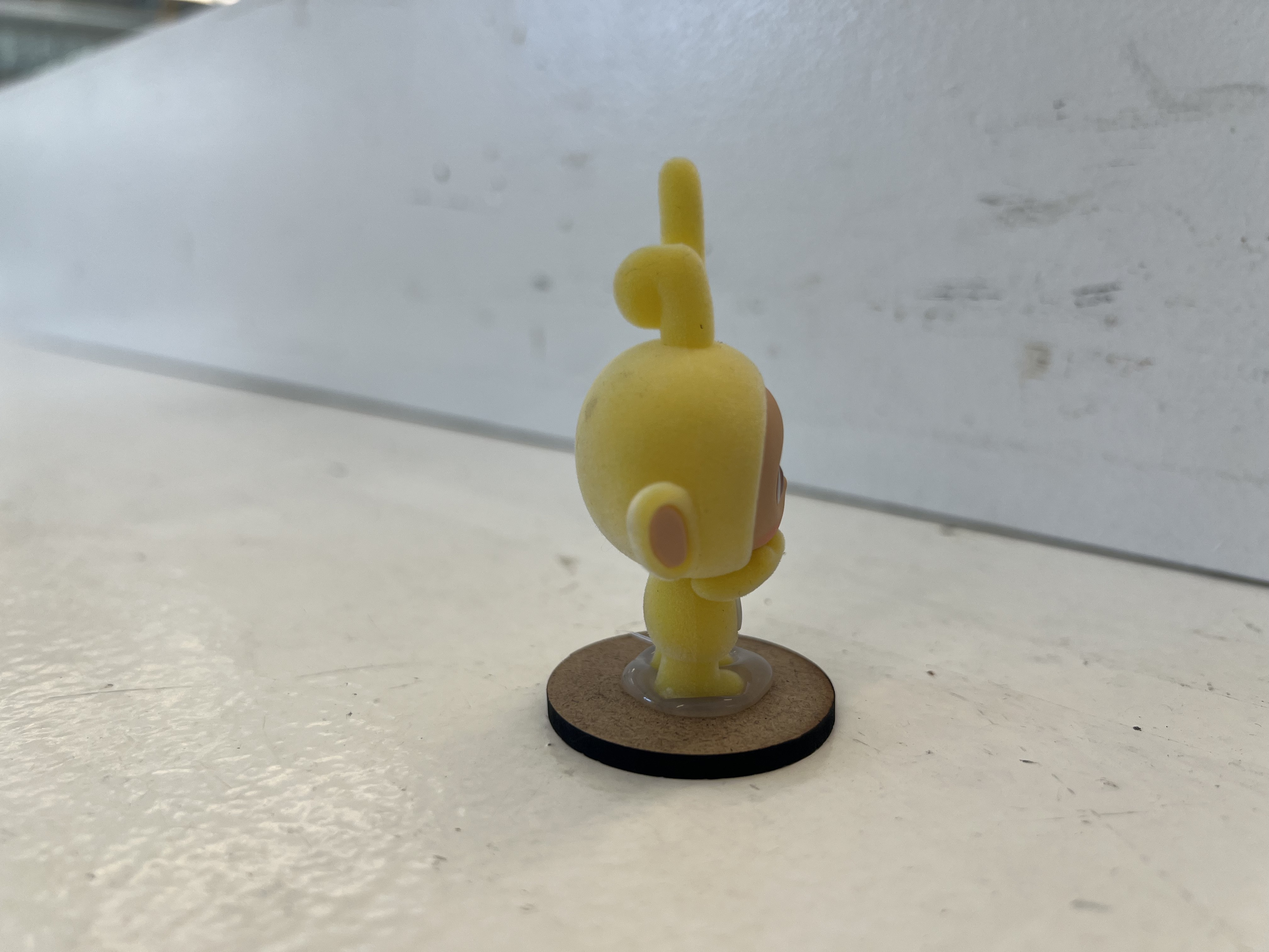teletubby: (576, 160, 784, 699)
